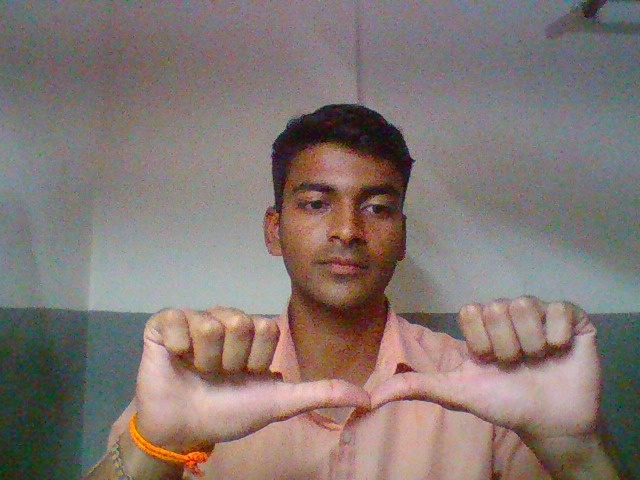A: (132, 291, 625, 448)
